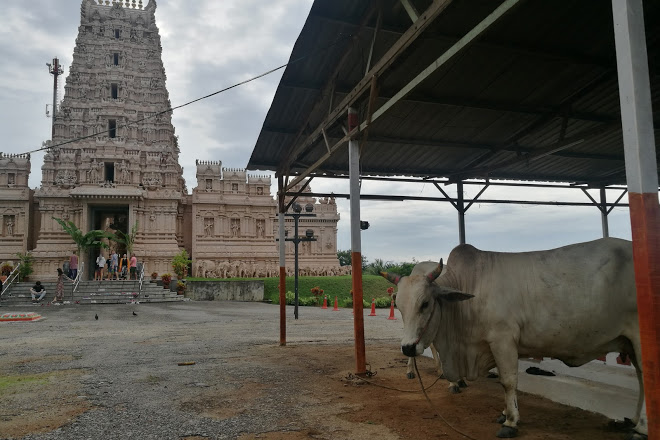Hindu Temple: (24, 1, 187, 269)
